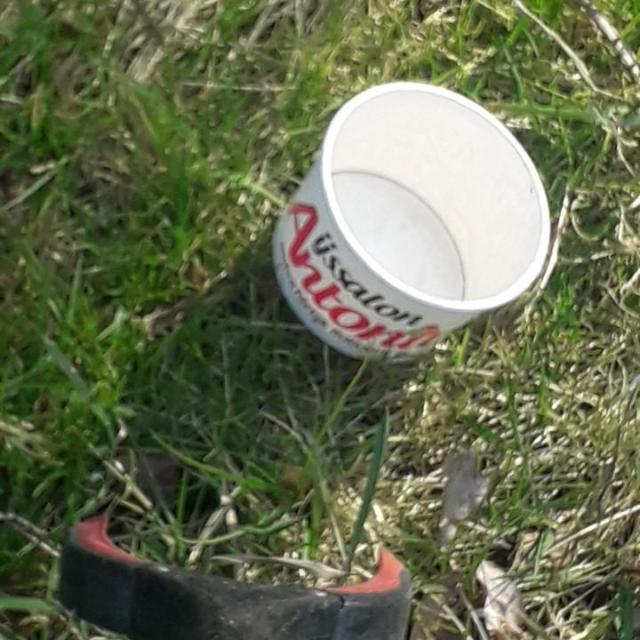Paper: (268, 80, 554, 368)
